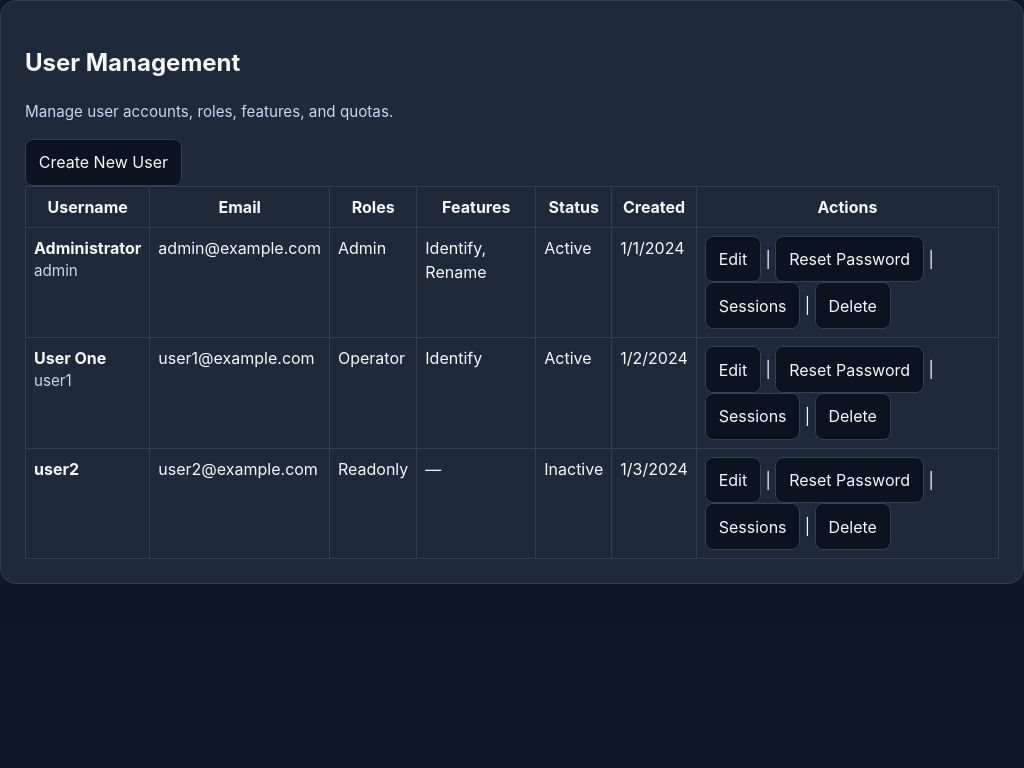
Scenario: UserManager › opens password reset modal when reset button is clicked
Click the button "Reset Password" in the row of "Administrator": (850, 259) [775,236,924,282]
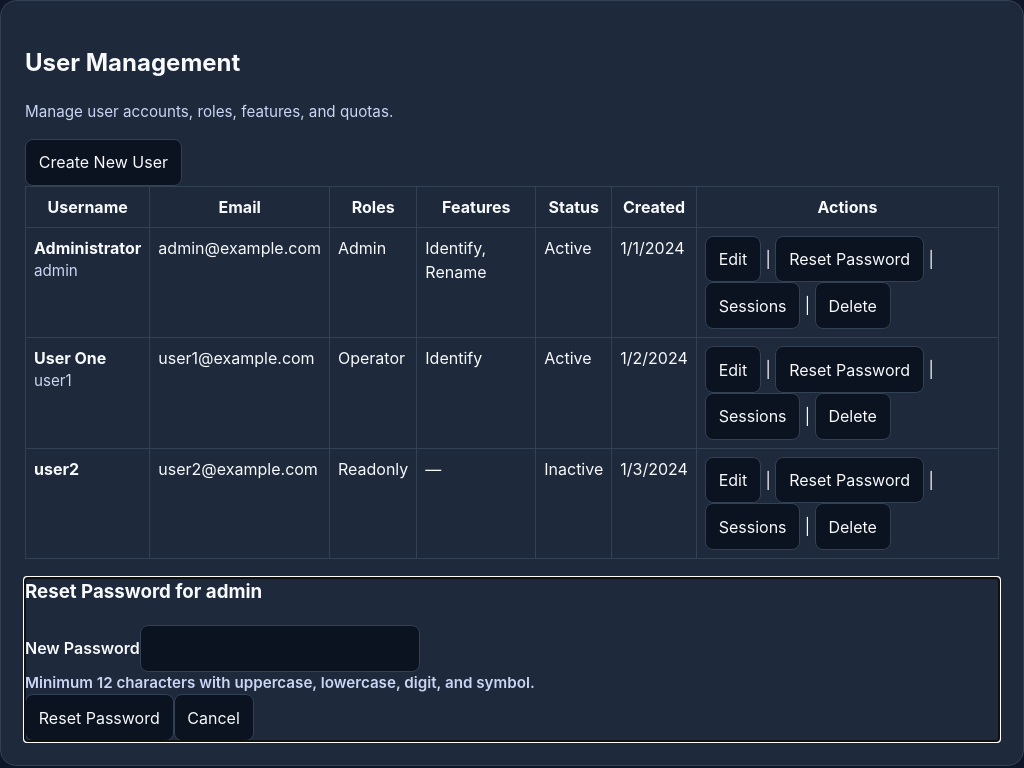
Expected: the heading "Reset Password for admin" is shown, [25,580,262,603]
